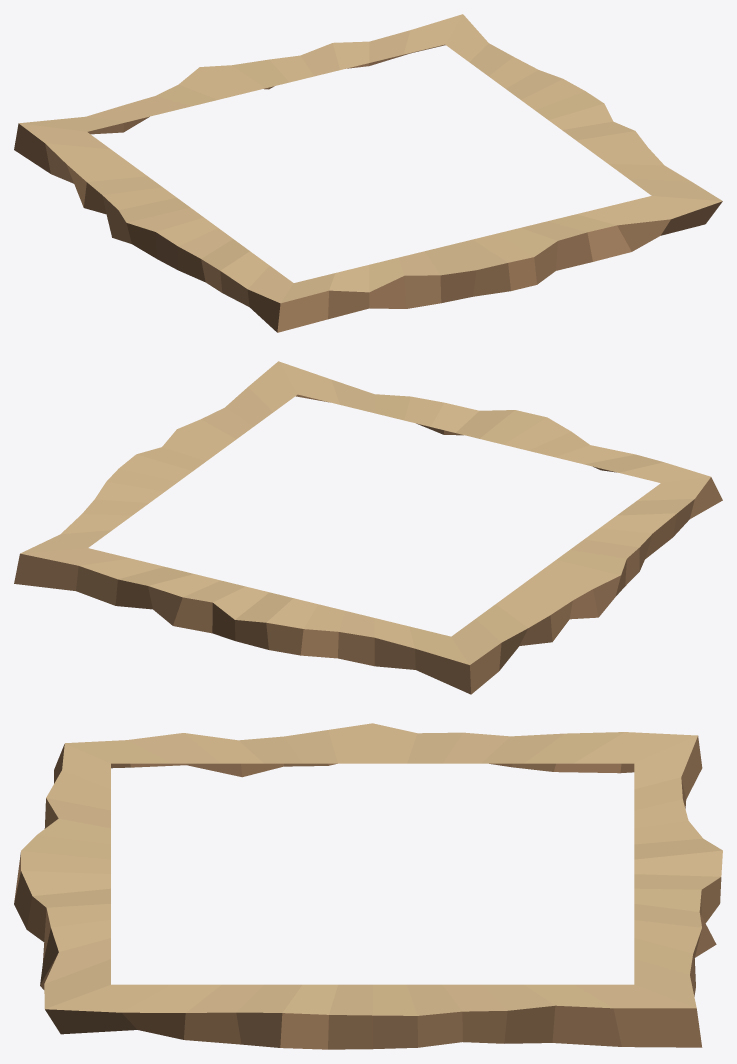
The model's file is entorno.glb.
3 views of the same model, one above another, from view 1: azimuth 30°, elevation 25°; view 2: azimuth 150°, elevation 25°; view 3: azimuth 270°, elevation 25° (orthographic). The views are drawn at different scales.
Parts seen in each view (by area): view 1: deserto_entorno; view 2: deserto_entorno; view 3: deserto_entorno.
Boxes of the visible parts, box(x1,y1,x2,y2) form: deserto_entorno: box(14, 14, 722, 332); deserto_entorno: box(14, 361, 722, 694); deserto_entorno: box(14, 723, 722, 1049).
Bounding box in the file's own units: 16.31 × 1.06 × 16.52.
